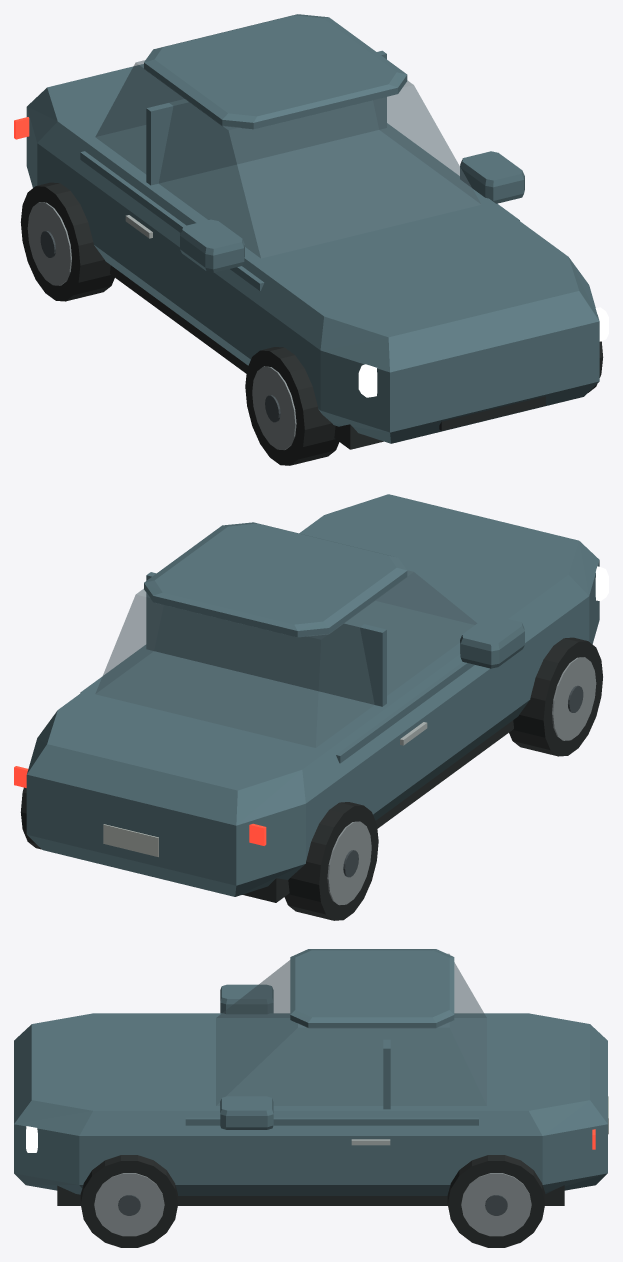
Rendered from dc-native-sedan-far.glb.
3 views of the same model, one above another, from view 1: azimuth 30°, elevation 25°; view 2: azimuth 150°, elevation 25°; view 3: azimuth 270°, elevation 25° (orthographic). The views are drawn at different scales.
Visible parts, largest first — view 1: body (×4), cabin, box (×4), FrontLeft_tire, RearLeft_tire, FrontLeft_rim, RearLeft_rim; view 2: body (×3), cabin, box (×4), RearLeft_tire, FrontLeft_tire, RearLeft_rim, FrontLeft_rim; view 3: body (×4), cabin, box (×3), RearRight_tire, FrontRight_tire, FrontRight_rim, RearRight_rim.
Part boxes in pixels (x1,y1,x2,y2): body (×4): [26, 14, 599, 443]; cabin: [95, 60, 481, 258]; box (×4): [80, 50, 545, 449]; FrontLeft_tire: [245, 347, 339, 465]; RearLeft_tire: [20, 182, 114, 301]; FrontLeft_rim: [252, 366, 296, 450]; RearLeft_rim: [27, 202, 71, 285]; body (×3): [26, 494, 599, 896]; cabin: [95, 570, 476, 747]; box (×4): [80, 572, 513, 902]; RearLeft_tire: [284, 802, 378, 920]; FrontLeft_tire: [509, 637, 602, 756]; RearLeft_rim: [327, 821, 371, 905]; FrontLeft_rim: [552, 657, 596, 740]; body (×4): [14, 949, 607, 1195]; cabin: [216, 953, 486, 1105]; box (×3): [57, 1028, 564, 1205]; RearRight_tire: [447, 1155, 545, 1247]; FrontRight_tire: [80, 1155, 177, 1247]; FrontRight_rim: [94, 1173, 164, 1236]; RearRight_rim: [461, 1173, 531, 1236].
Bounding box in the file's own units: 2.26 × 1.69 × 4.46.
